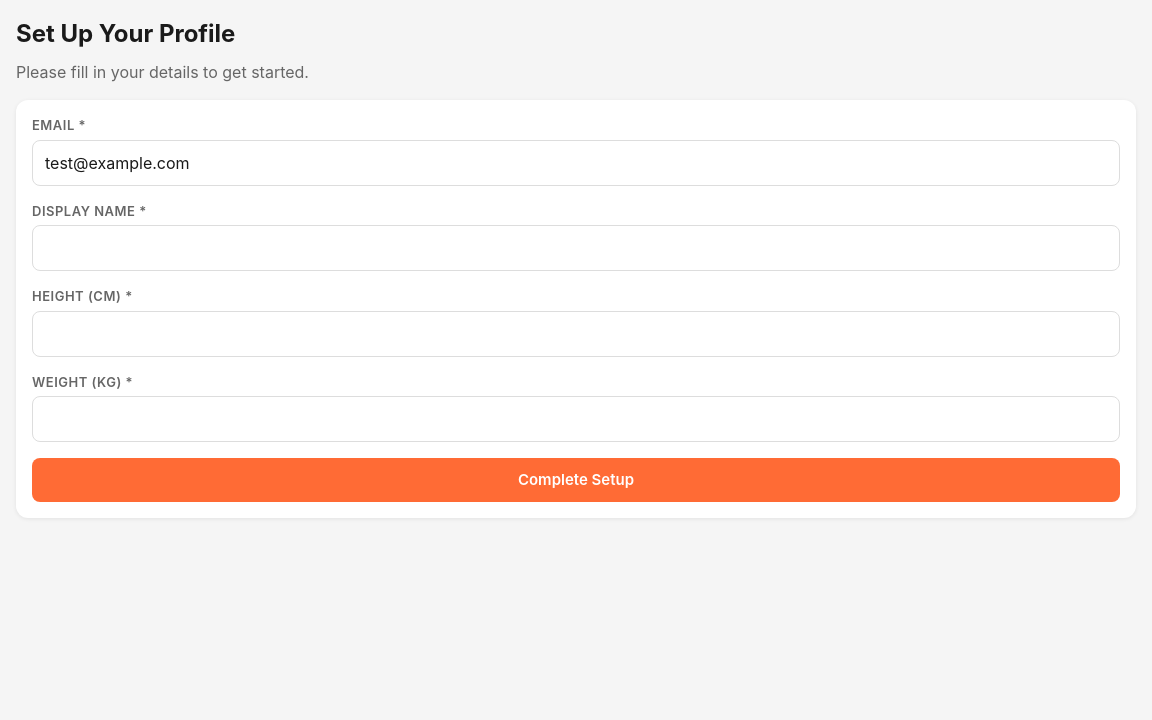
Test: ProfileSetupPage › shows validation error for invalid email
Replace the text in the field labelled "Email *" with "not-an-email" at (576, 162), box [32,140,1120,186]
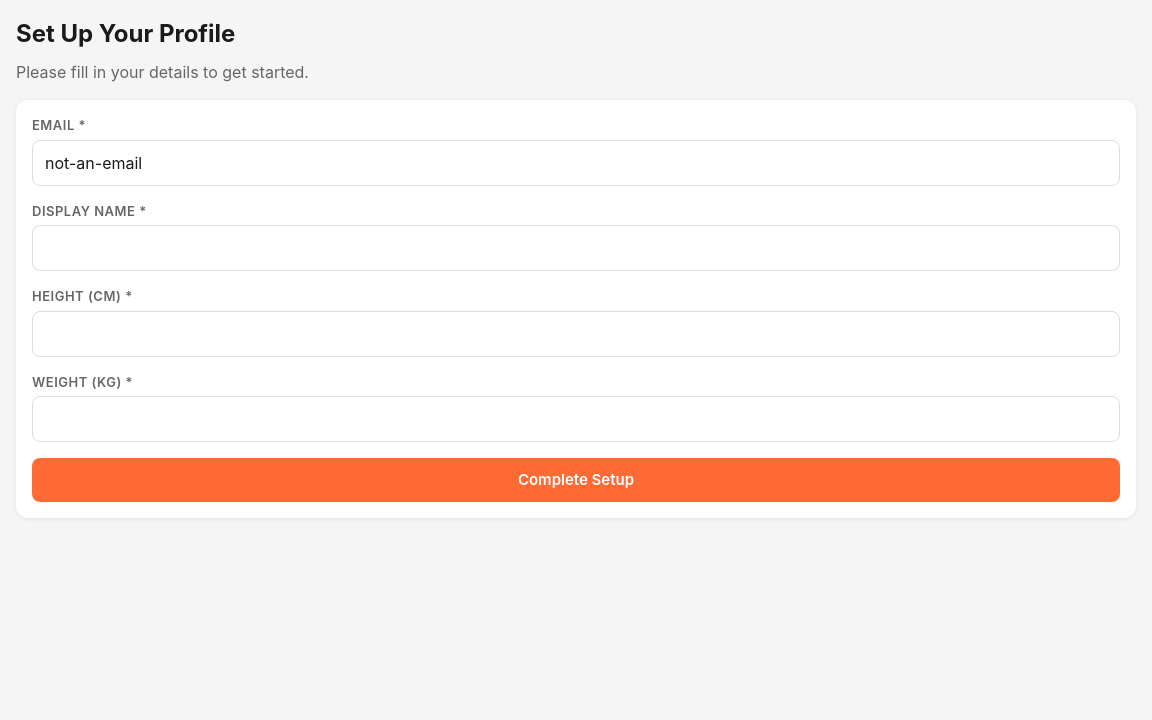
Submit the text "Complete Setup", box [16,100,1136,518]
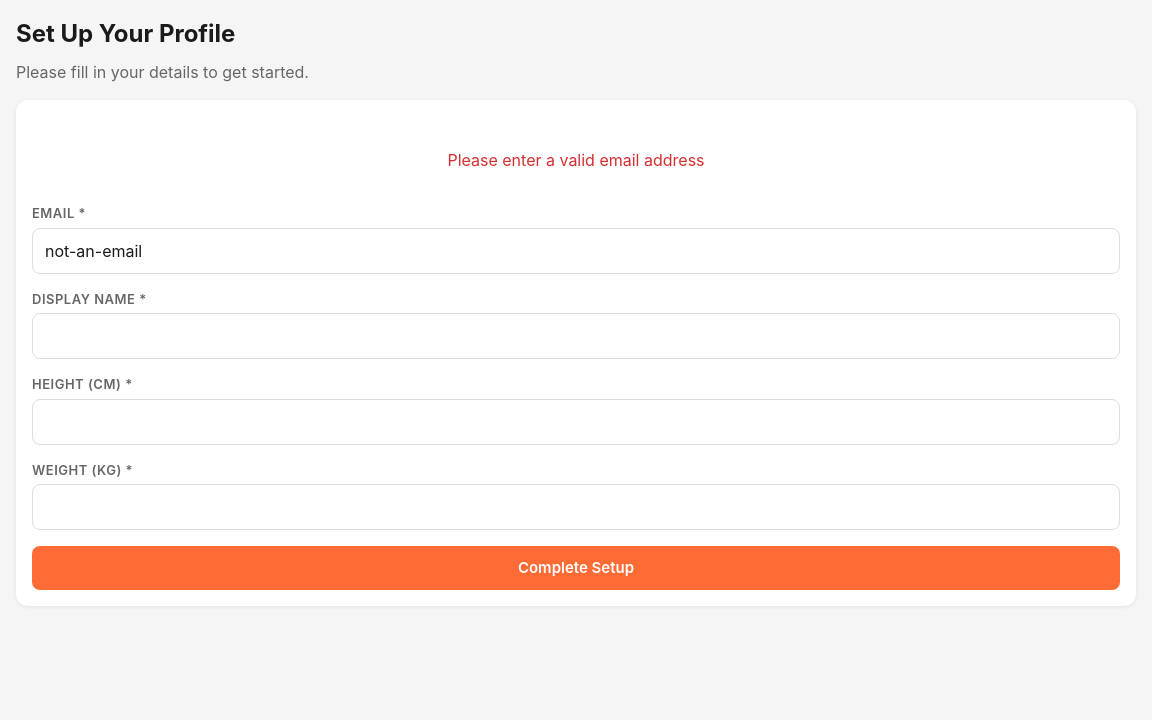
Now the text "Please enter a valid email address" is shown, box [447,150,704,170]
